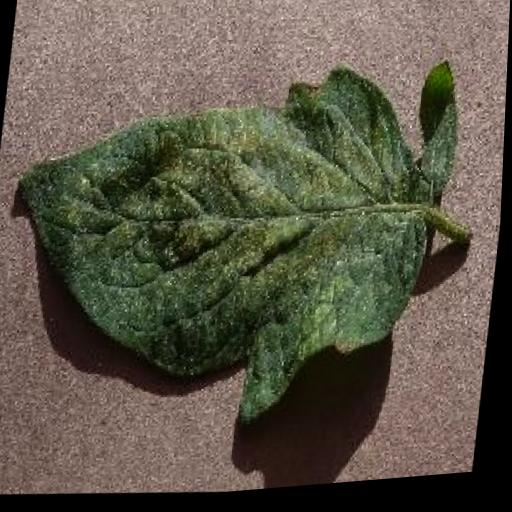Spider Mites: (0, 35, 468, 455)
